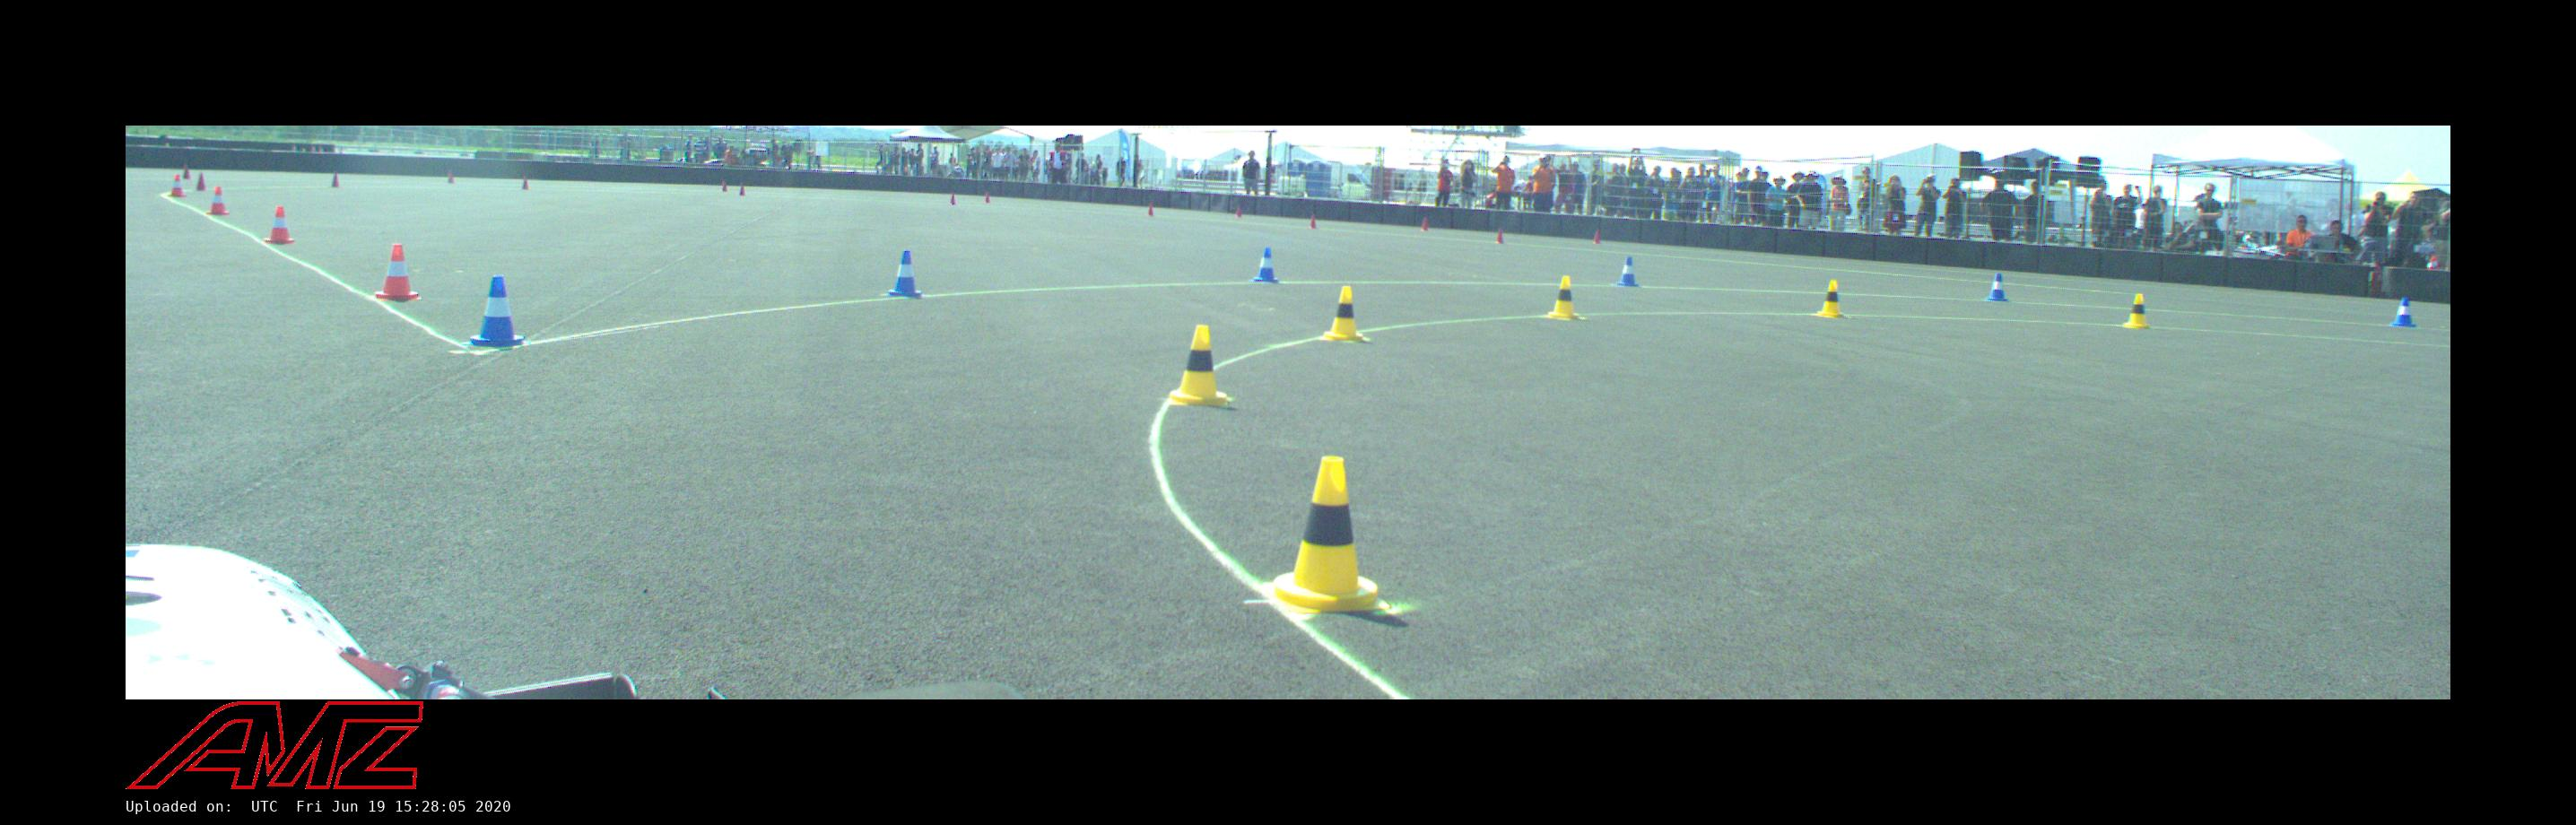blue_cone: (471, 276, 524, 347), (889, 251, 922, 297), (1254, 248, 1278, 283), (2392, 297, 2417, 327), (1986, 273, 2008, 301), (1617, 258, 1638, 286)
orange_cone: (375, 243, 421, 299), (264, 207, 296, 242), (207, 186, 230, 214), (168, 174, 186, 196)
unknown_cone: (197, 173, 205, 191), (330, 171, 338, 187), (182, 164, 191, 179), (521, 176, 529, 189), (1594, 230, 1602, 243), (1309, 214, 1316, 228), (1497, 228, 1503, 243), (447, 169, 453, 182), (739, 182, 746, 196), (1147, 204, 1153, 217), (721, 181, 728, 192), (950, 192, 956, 204), (1235, 205, 1242, 217), (1421, 219, 1428, 230), (984, 192, 991, 202)
yellow_cone: (1267, 457, 1390, 613), (1170, 325, 1227, 406), (1324, 286, 1362, 340), (1549, 276, 1577, 317), (1817, 281, 1843, 317), (2124, 294, 2149, 327)
